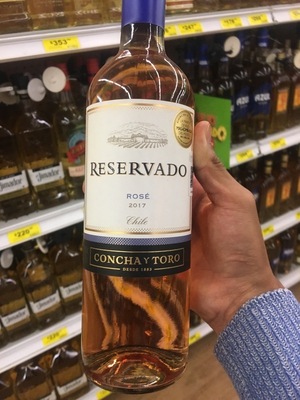reservado rose: (82, 3, 194, 400)
